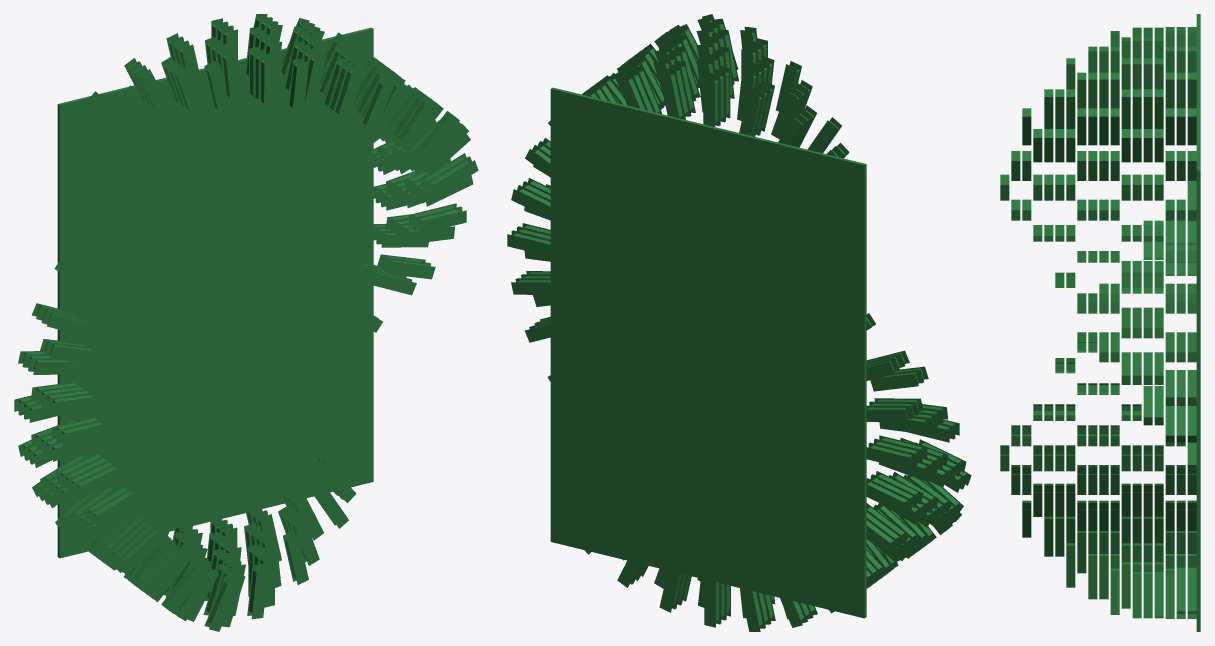
File: curved_wall_mini_manor_v2.obj
3 views of the same model, side by side, from view 1: azimuth 30°, elevation 25°; view 2: azimuth 150°, elevation 25°; view 3: azimuth 270°, elevation 25° (orthographic).
Parts seen in each view (by area): view 1: MiniManor_V2_Wall; view 2: MiniManor_V2_Wall; view 3: MiniManor_V2_Wall.
Boxes of the visible parts, x1,y1,x2,y2 form: MiniManor_V2_Wall: [14, 14, 478, 631]; MiniManor_V2_Wall: [507, 14, 971, 631]; MiniManor_V2_Wall: [1000, 14, 1200, 631].
Size of the model in its own units: 9526 by 12326 by 4000.
